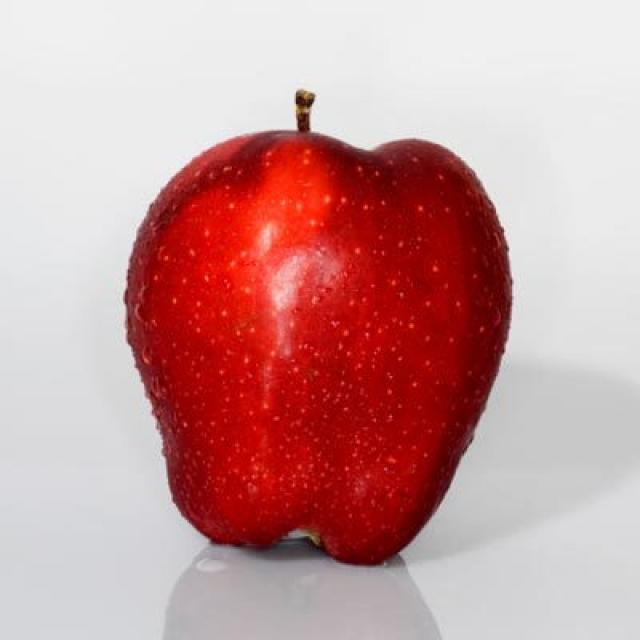Apple: (111, 86, 526, 566)
